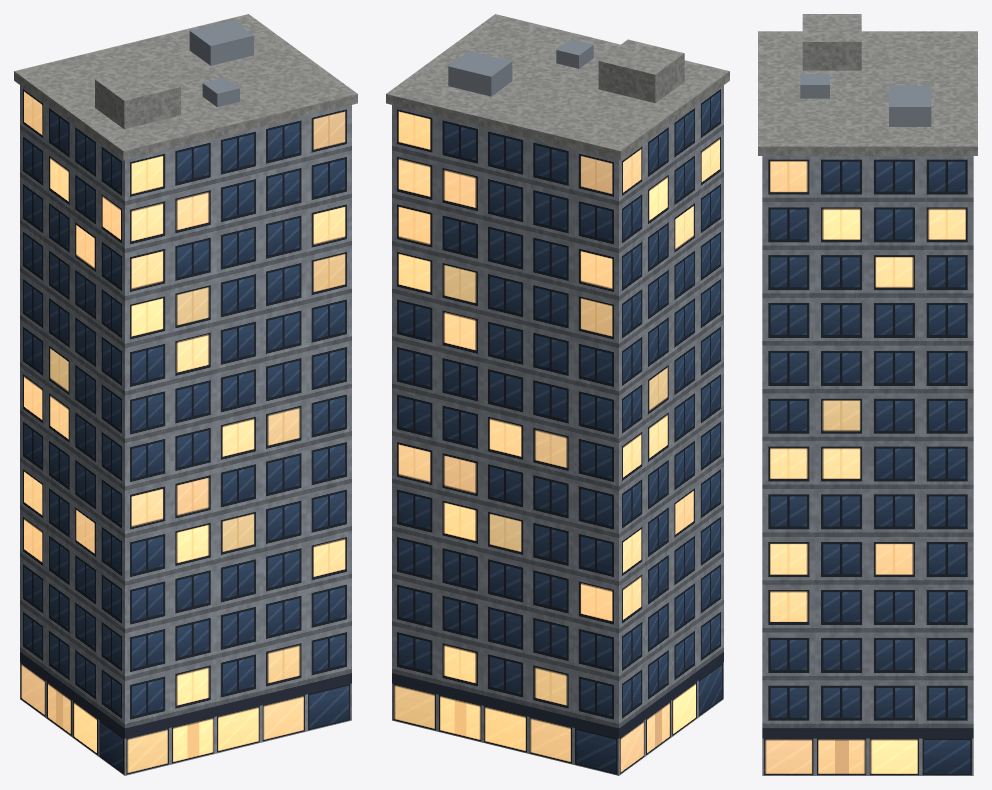
File: torre.glb
3 views of the same model, side by side, from view 1: azimuth 30°, elevation 25°; view 2: azimuth 150°, elevation 25°; view 3: azimuth 270°, elevation 25° (orthographic).
Visible parts, largest first — view 1: frente, lados, cobertura, equipamentos; view 2: frente, lados, cobertura, equipamentos; view 3: lados, cobertura, equipamentos.
Boxes of the visible parts, x1,y1,x2,y2 form: frente: (125, 105, 351, 775); lados: (20, 85, 124, 775); cobertura: (14, 14, 357, 160); equipamentos: (189, 20, 253, 107); frente: (392, 105, 618, 775); lados: (619, 85, 723, 775); cobertura: (386, 14, 729, 160); equipamentos: (448, 39, 593, 96); lados: (762, 156, 973, 775); cobertura: (758, 14, 977, 155); equipamentos: (800, 74, 931, 126).
Size of the model in its own units: 6.2 by 16.56 by 5.
4 materials, 3 textured.
